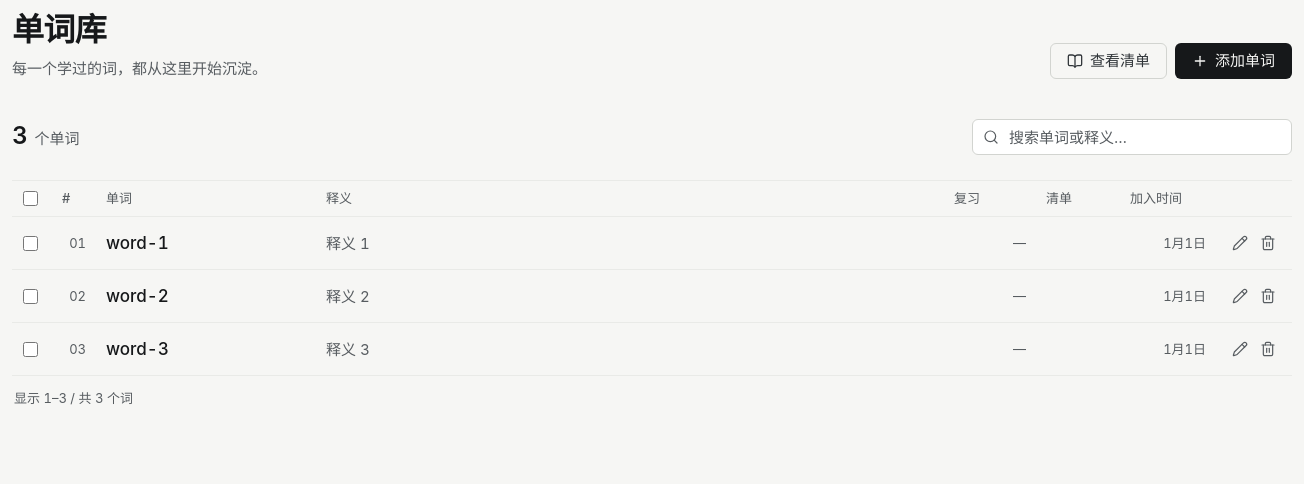
Scenario: 单词的批量删除 › 词库在别处被删空时，选中状态跟着消失
Click the checkbox named "选择 word-1".
click(30, 243)  # box [22,236,38,251]
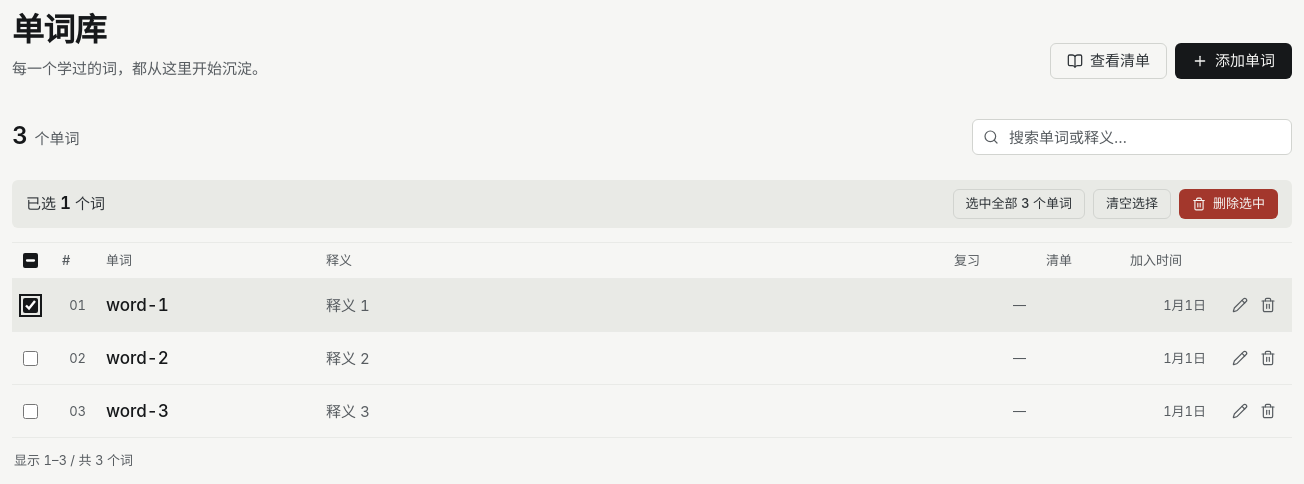
Now the element named "批量删除" is shown, box [12,180,1292,228]
